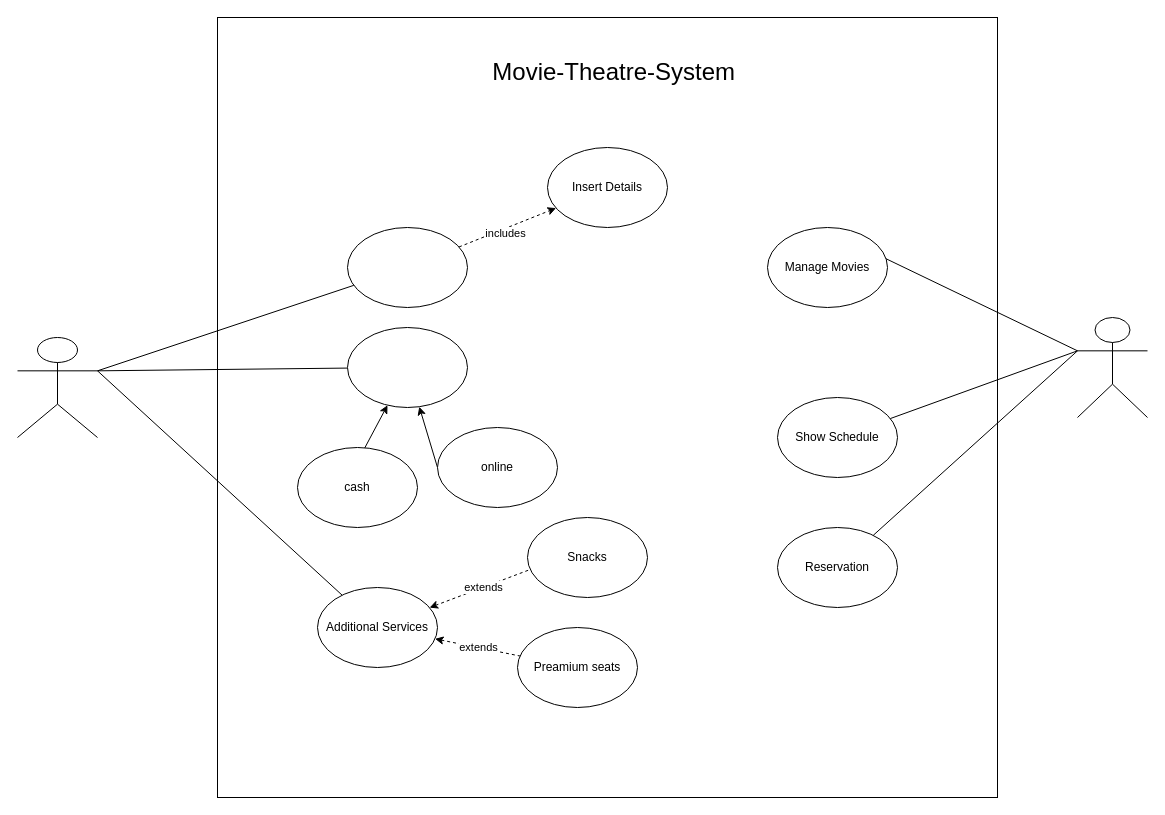
The diagram is 1165 pixels wide and 815 high, and some of its shapes have lost their labels. The centre of each missing label's shape, as x and y in pixels:
Make Payment: the point at 407,367
Reserve Seats: the point at 407,267
Staff: the point at 1112,367
User: the point at 57,387
